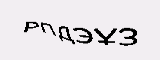Б: (93, 7, 105, 33)
Д: (31, 22, 46, 46)
Ж: (46, 12, 70, 39)
И: (110, 8, 129, 29)
Ф: (68, 7, 91, 37)
